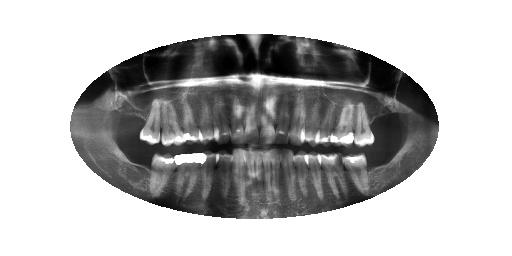i10healthy: (243, 147, 254, 198)
i11healthy: (231, 145, 245, 202)
i12healthy: (213, 148, 235, 201)
i13healthy: (195, 148, 219, 206)
i14healthy: (169, 145, 209, 204)
i15healthy: (147, 148, 177, 200)
i2healthy: (341, 152, 375, 195)
i3healthy: (316, 148, 349, 204)
i4healthy: (300, 147, 325, 201)
i5healthy: (291, 148, 313, 204)
i6healthy: (275, 146, 300, 206)
i7healthy: (266, 145, 282, 203)
i8healthy: (259, 149, 273, 207)
i9healthy: (251, 145, 262, 207)
u10decay: (224, 91, 247, 149)
u11decay: (207, 89, 233, 147)
u12healthy: (196, 89, 217, 150)
u13healthy: (177, 95, 202, 145)
u15healthy: (157, 97, 188, 147)
u16healthy: (137, 96, 165, 147)
u2healthy: (353, 96, 378, 153)
u3healthy: (327, 95, 359, 151)
u4healthy: (312, 98, 340, 147)
u5healthy: (297, 93, 324, 151)
u6healthy: (288, 90, 308, 148)
u7healthy: (266, 88, 294, 148)
u8healthy: (255, 91, 279, 147)
u9healthy: (241, 89, 261, 147)
